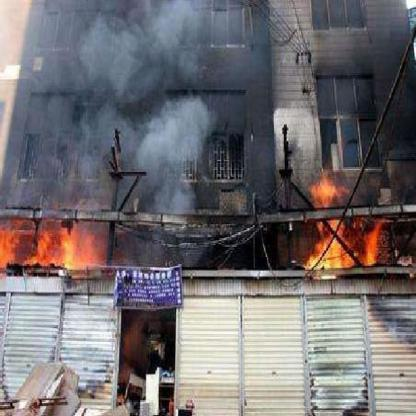fire: (305, 175, 390, 268), (2, 211, 114, 271)
smoke: (0, 1, 227, 200)
